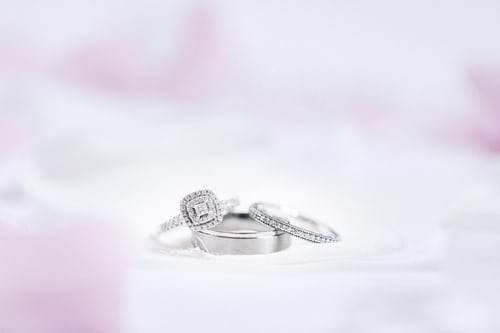ring: (161, 175, 345, 267)
